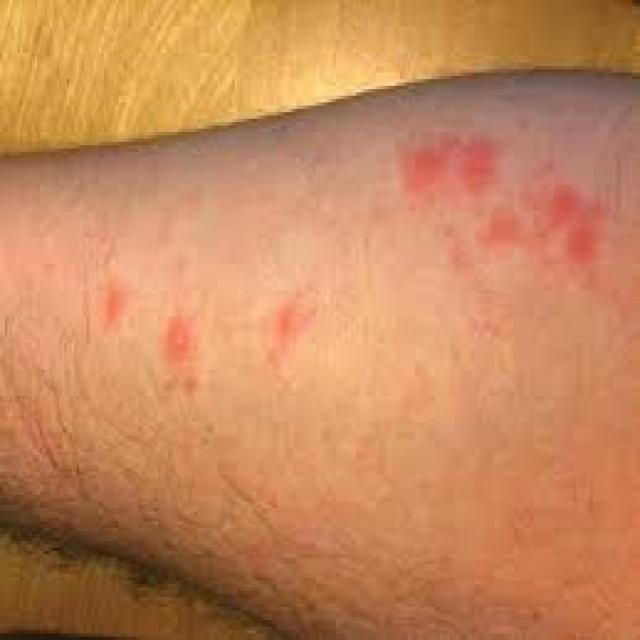kan emici bocekler: (395, 134, 452, 213), (150, 315, 218, 374), (270, 290, 325, 361), (459, 140, 503, 203), (541, 180, 588, 233), (567, 220, 607, 279), (477, 214, 518, 255), (105, 281, 134, 337)
